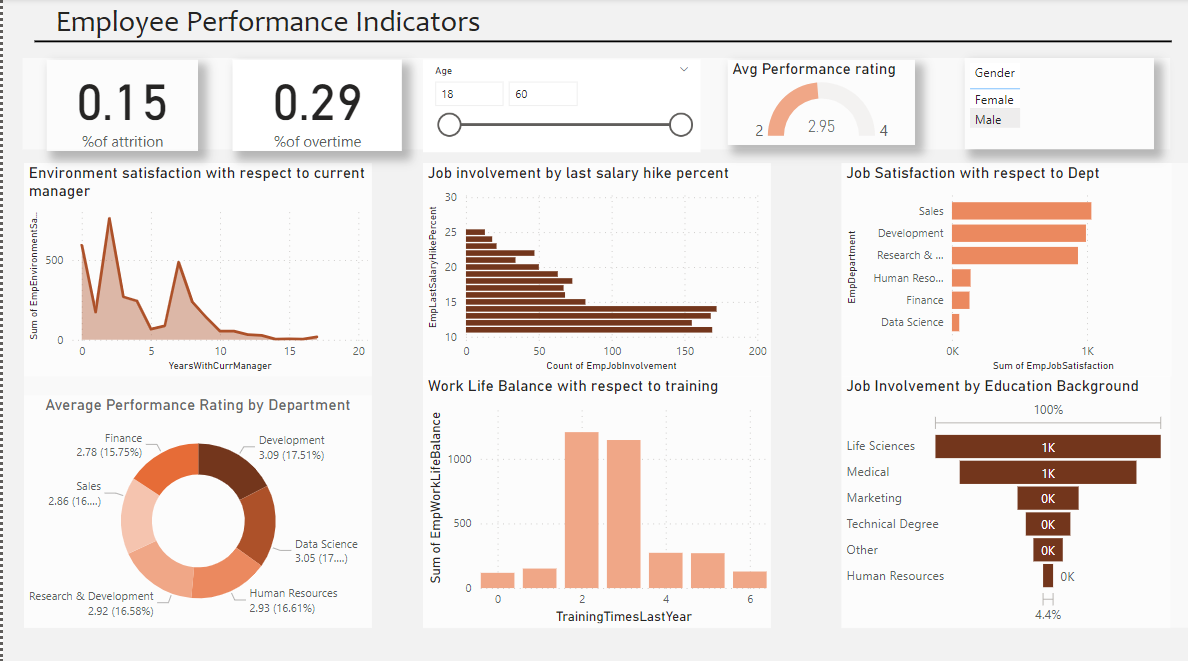

The page's visual inventory and layout, read from the dashboard file:
{"tool":"powerbi","page":{"name":"perf indicators","canvas":[1280,720],"ordinal":1},"visuals":[{"type":"textbox","box":[9.7,0,551.7,279.9],"z":0},{"type":"shape","box":[34,29.1,1226.4,35.6],"z":1000},{"type":"shape","box":[22.7,178,375.4,501.6],"z":2000},{"type":"shape","box":[453,178,375.4,501.6],"z":3000},{"type":"shape","box":[904.4,178,375.4,501.6],"z":4000},{"type":"shape","box":[21,64.7,1237.8,98.7],"z":5000},{"type":"donutChart","title":"Average Performance Rating by Department","fields":{"Y":["Avg(INX_Future_Inc_Employee_Perform.PerformanceRating)"],"Category":["INX_Future_Inc_Employee_Perform.EmpDepartment"]},"box":[22.7,428.8,375.4,250.8],"z":5001},{"type":"areaChart","title":"Environment satisfaction with respect to current manager","fields":{"Y":["Sum(INX_Future_Inc_Employee_Perform.EmpEnvironmentSatisfaction)"],"Category":["INX_Future_Inc_Employee_Perform.YearsWithCurrManager"]},"box":[22.7,178,375.4,229.8],"z":5002},{"type":"tableEx","fields":{"Values":["INX_Future_Inc_Employee_Perform.Gender"]},"box":[1037.1,64.7,203.9,98.7],"z":5003},{"type":"barChart","title":"Job involvement by last salary hike percent","fields":{"Category":["INX_Future_Inc_Employee_Perform.EmpLastSalaryHikePercent"],"Y":["CountNonNull(INX_Future_Inc_Employee_Perform.EmpJobInvolvement)"]},"box":[453,178,375.4,229.8],"z":5004},{"type":"lineClusteredColumnComboChart","title":"Work Life Balance with respect to training","fields":{"Y":["Sum(INX_Future_Inc_Employee_Perform.EmpWorkLifeBalance)"],"Category":["INX_Future_Inc_Employee_Perform.TrainingTimesLastYear"]},"box":[453,407.7,375.4,271.8],"z":5005},{"type":"gauge","title":"Avg Performance rating","fields":{"Y":["Avg(INX_Future_Inc_Employee_Perform.PerformanceRating)"],"MinValue":["Min(INX_Future_Inc_Employee_Perform.PerformanceRating)1"],"MaxValue":["Max(INX_Future_Inc_Employee_Perform.PerformanceRating)2"]},"box":[781.5,66.3,202.2,92.2],"z":5006},{"type":"clusteredBarChart","title":"Job Satisfaction with respect to Dept","fields":{"Category":["INX_Future_Inc_Employee_Perform.EmpDepartment"],"Y":["Sum(INX_Future_Inc_Employee_Perform.EmpJobSatisfaction)"]},"box":[904.4,178,356,229.8],"z":5007},{"type":"funnel","title":"Job Involvement by Education Background","fields":{"Category":["INX_Future_Inc_Employee_Perform.EducationBackground"],"Y":["Sum(INX_Future_Inc_Employee_Perform.EmpJobInvolvement)"]},"box":[904.4,407.7,354.3,271.8],"z":5008},{"type":"card","fields":{"Values":["INX_Future_Inc_Employee_Perform.%of attrition"]},"box":[46.9,66.3,163.4,98.7],"z":5009},{"type":"card","fields":{"Values":["INX_Future_Inc_Employee_Perform.%of overtime"]},"box":[247.6,66.3,182.8,98.7],"z":5010},{"type":"slicer","fields":{"Values":["INX_Future_Inc_Employee_Perform.Age"]},"box":[453,66.3,299.3,100.3],"z":5011}]}

Visuals, with their boxes in screenshot pixels (x1, y1, x2, y2), scaled from the page's 1280x720 canvas onto the 1188x661 screenshot:
textbox: left=9, top=0, right=521, bottom=257
shape: left=32, top=27, right=1170, bottom=59
shape: left=21, top=163, right=369, bottom=624
shape: left=420, top=163, right=769, bottom=624
shape: left=839, top=163, right=1187, bottom=624
shape: left=19, top=59, right=1168, bottom=150
"Average Performance Rating by Department" donutChart: left=21, top=394, right=369, bottom=624
"Environment satisfaction with respect to current manager" areaChart: left=21, top=163, right=369, bottom=374
tableEx - INX_Future_Inc_Employee_Perform.Gender: left=963, top=59, right=1152, bottom=150
"Job involvement by last salary hike percent" barChart: left=420, top=163, right=769, bottom=374
"Work Life Balance with respect to training" lineClusteredColumnComboChart: left=420, top=374, right=769, bottom=624
"Avg Performance rating" gauge: left=725, top=61, right=913, bottom=146
"Job Satisfaction with respect to Dept" clusteredBarChart: left=839, top=163, right=1170, bottom=374
"Job Involvement by Education Background" funnel: left=839, top=374, right=1168, bottom=624
card - INX_Future_Inc_Employee_Perform.%of attrition: left=44, top=61, right=195, bottom=151
card - INX_Future_Inc_Employee_Perform.%of overtime: left=230, top=61, right=399, bottom=151
slicer - INX_Future_Inc_Employee_Perform.Age: left=420, top=61, right=698, bottom=153
